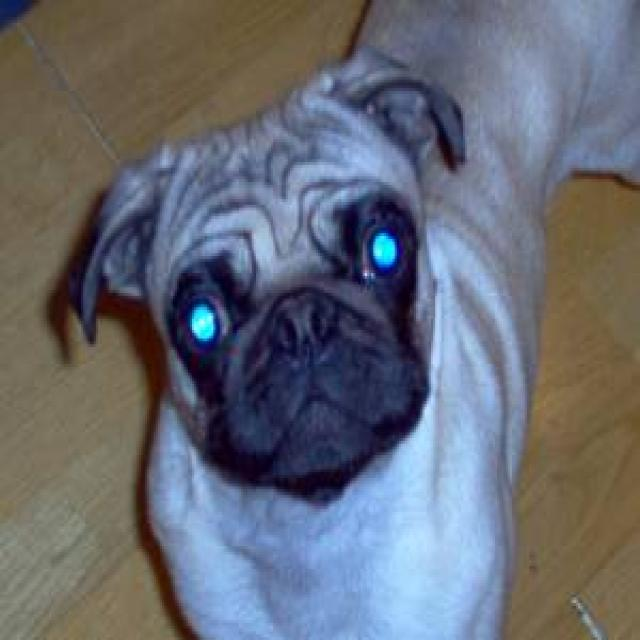dog-pug: (49, 3, 636, 634)
